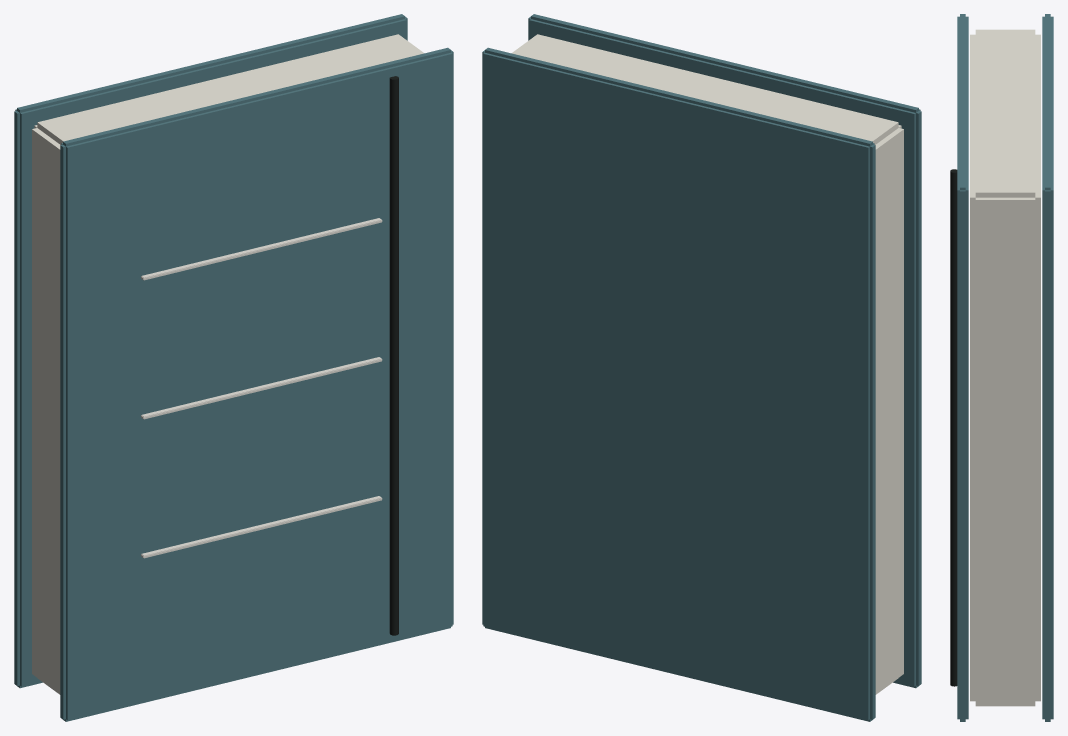
File: sku_notebook.glb
The picture shows the model from 3 angles, left to right: view 1: azimuth 30°, elevation 25°; view 2: azimuth 150°, elevation 25°; view 3: azimuth 270°, elevation 25°; orthographic projection. The views are drawn at different scales.
Parts seen in each view (by area): view 1: sku_notebook_Journal_ink, sku_notebook_Paper_page_edges, sku_notebook_Grip_rubber, sku_notebook_Warm_white_coating; view 2: sku_notebook_Journal_ink, sku_notebook_Paper_page_edges; view 3: sku_notebook_Paper_page_edges, sku_notebook_Journal_ink, sku_notebook_Grip_rubber.
Part boxes in pixels (bbox=[...]): sku_notebook_Journal_ink: bbox=[14, 14, 453, 721]; sku_notebook_Paper_page_edges: bbox=[32, 34, 423, 694]; sku_notebook_Grip_rubber: bbox=[389, 76, 398, 635]; sku_notebook_Warm_white_coating: bbox=[141, 218, 382, 558]; sku_notebook_Journal_ink: bbox=[482, 14, 921, 721]; sku_notebook_Paper_page_edges: bbox=[512, 34, 903, 694]; sku_notebook_Paper_page_edges: bbox=[970, 29, 1040, 706]; sku_notebook_Journal_ink: bbox=[957, 14, 1053, 721]; sku_notebook_Grip_rubber: bbox=[950, 169, 957, 686].
Size of the model in its own units: 0.147 by 0.208 by 0.0364.
